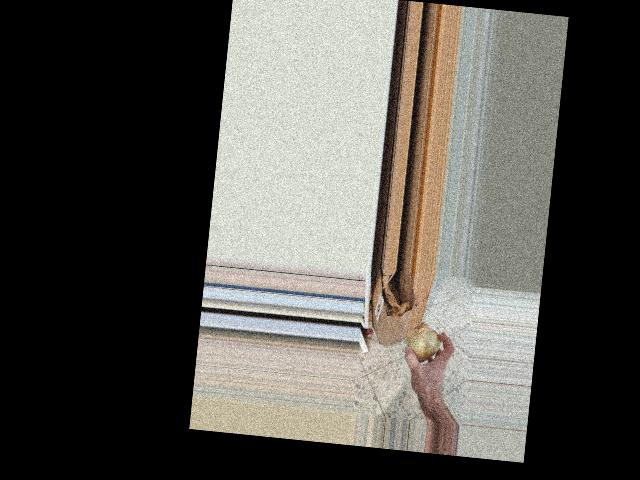onion: (401, 319, 444, 367)
